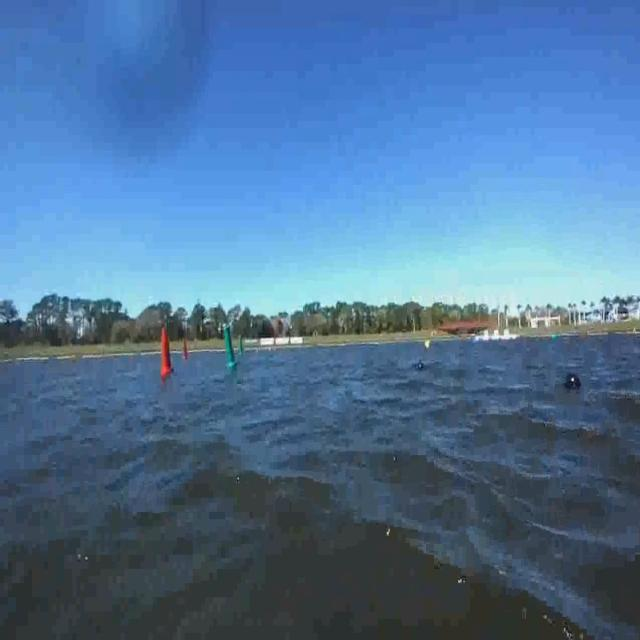green-column-buoy: (221, 325, 237, 368)
red-column-buoy: (160, 328, 175, 376), (184, 338, 193, 361)
